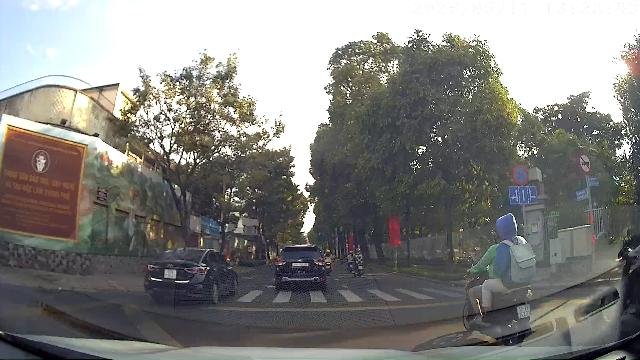130-cam-dung-va-do-xe: (513, 164, 530, 185)
